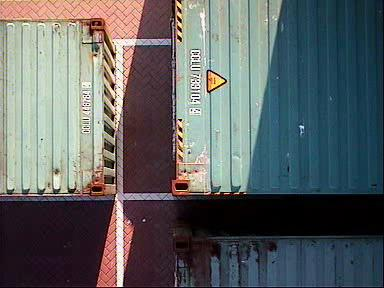groundmarker_2: (11, 1, 96, 135)
